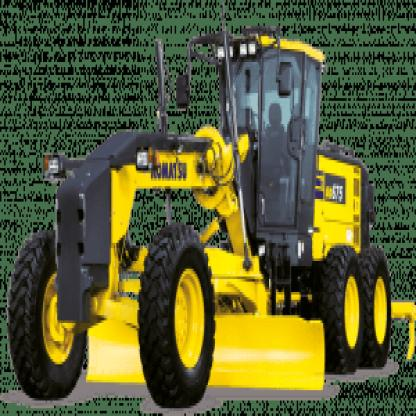bull_dozer/loader/grader: (13, 2, 400, 414)
